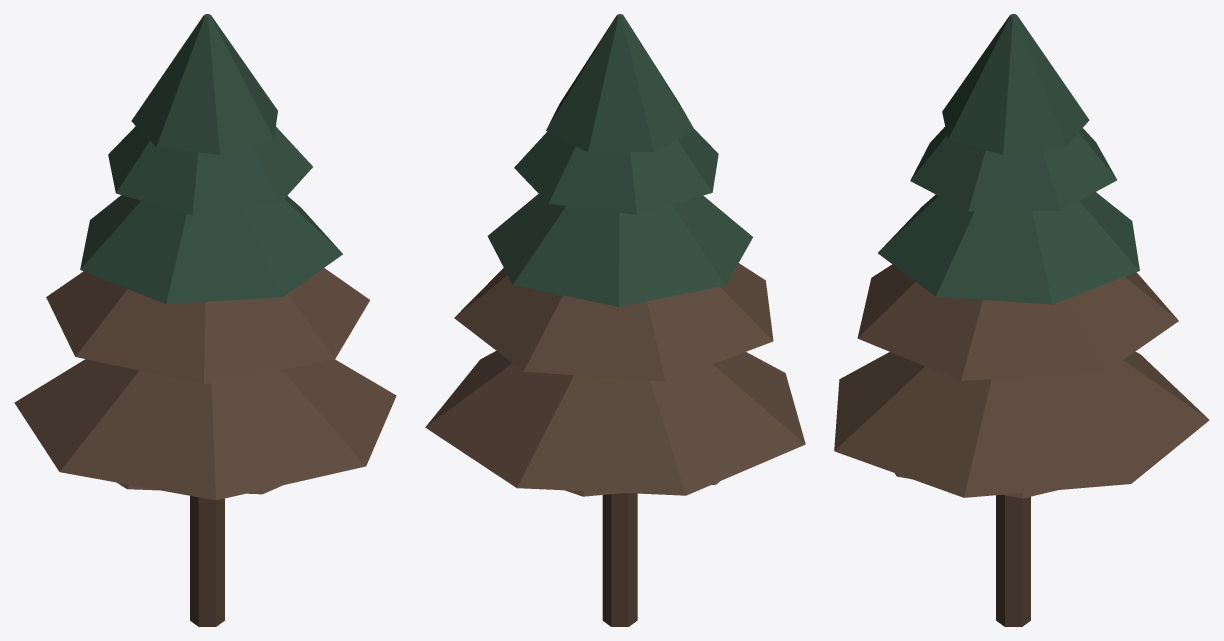
The model's file is trees.glb.
3 views of the same model, side by side, from view 1: azimuth 30°, elevation 25°; view 2: azimuth 150°, elevation 25°; view 3: azimuth 270°, elevation 25° (orthographic).
Visible parts, largest first — view 1: Tree_Pine_A; view 2: Tree_Pine_A; view 3: Tree_Pine_A.
Boxes of the visible parts, left/top/right/bottom form: Tree_Pine_A: left=14, top=14, right=396, bottom=626; Tree_Pine_A: left=425, top=14, right=805, bottom=626; Tree_Pine_A: left=834, top=14, right=1209, bottom=626.
Bounding box in the file's own units: 3.95 × 6.89 × 3.87.
